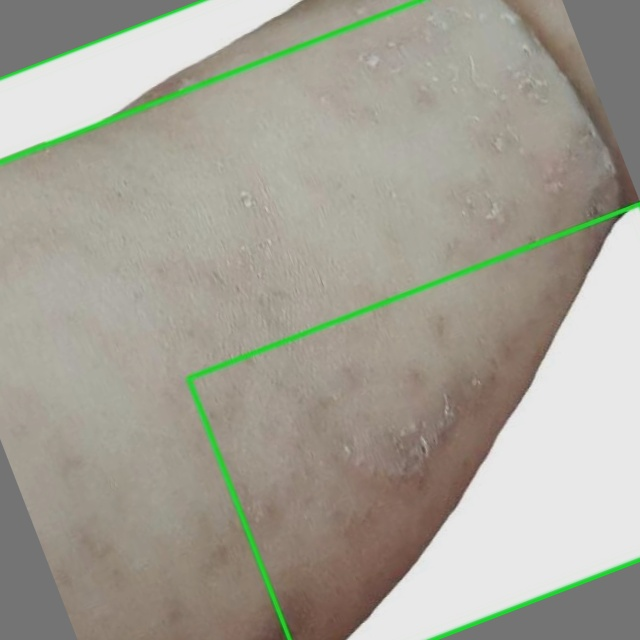Scabies: (188, 205, 639, 639)
